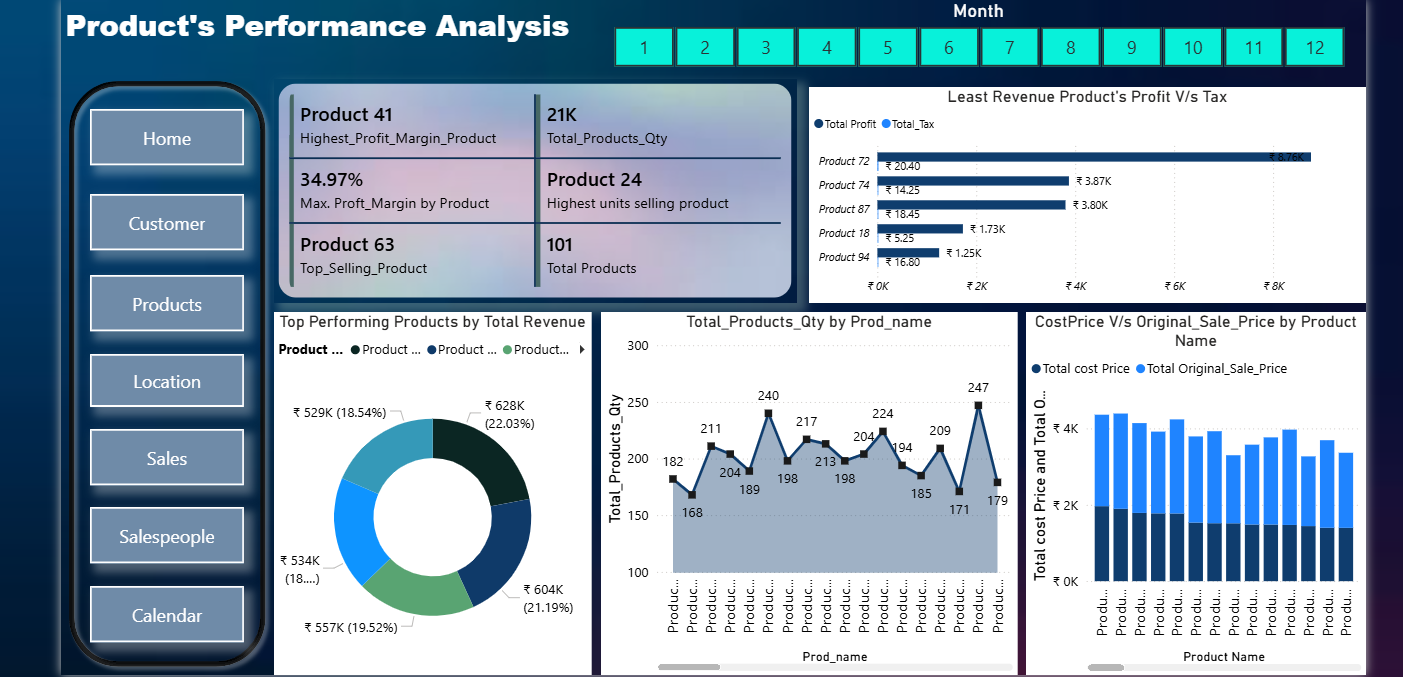

Layout of this report page (visuals, bound fields, positions):
{"tool":"powerbi","page":{"name":" Product","canvas":[1450,750],"ordinal":2},"visuals":[{"type":"cardVisual","title":"KPIs","fields":{"Data":["Calendar.Highest_Profit_Margin_Product","Product_Data.Proft_Margin max per Product Name","Calendar.Top_Selling_Product","Sales.Total_Products_Qty","Sales.Highest units selling product","Product_Data.Total Products"]},"box":[236.2,87.5,581.2,248.8],"z":0},{"type":"donutChart","title":"Top Performing Products by Total Revenue","fields":{"Category":["Product_Data.Product Name"],"Y":["Calendar.Total Revenue"]},"box":[236.2,346.2,352.5,403.8],"z":1000},{"type":"clusteredBarChart","title":"Least Revenue Product''s Profit V/s Tax ","fields":{"Category":["Product_Data.Product Name"],"Y":["Calendar.Total Profit","Calendar.Total_Tax"]},"box":[831.2,96.2,618.8,240],"z":2000},{"type":"shape","box":[32.5,121.2,171.2,62.5],"z":3000},{"type":"shape","box":[32.5,215,171.2,62.5],"z":4000},{"type":"columnChart","title":"CostPrice V/s Original_Sale_Price by Product Name","fields":{"Y":["Product_Data.Total cost Price","Product_Data.Total Original_Sale_Price"],"Category":["Product_Data.Product Name"]},"box":[1072.5,346.2,377.5,403.8],"z":5000},{"type":"textbox","box":[0,0,572.5,57.5],"z":6000},{"type":"shape","box":[0,81.2,236.2,668.8],"z":7000},{"type":"shape","box":[32.5,305,171.2,62.5],"z":8000},{"type":"shape","box":[32.5,393.8,171.2,58.8],"z":9000},{"type":"shape","box":[32.5,476.2,171.2,62.5],"z":10000},{"type":"shape","box":[32.5,563.8,171.2,62.5],"z":11000},{"type":"shape","box":[32.5,651.2,171.2,62.5],"z":12000},{"type":"areaChart","fields":{"Category":["Sales.Prod_name"],"Y":["Sales.Total_Products_Qty"]},"box":[600,346.2,462.5,403.8],"z":13000},{"type":"slicer","title":"Month","fields":{"Values":["Calendar.MonthOfYear"]},"box":[588.8,0,861.2,81.2],"z":14000}]}

Visuals, with their boxes on the page's 1450x750 design canvas (x1, y1, x2, y2). These are canvas units, not pixel positions in the 1403x677 screenshot, which may show the page scaled, cropped or inside an application window:
"KPIs" cardVisual: region(236, 88, 817, 336)
"Top Performing Products by Total Revenue" donutChart: region(236, 346, 589, 750)
"Least Revenue Product''s Profit V/s Tax " clusteredBarChart: region(831, 96, 1450, 336)
shape: region(32, 121, 204, 184)
shape: region(32, 215, 204, 278)
"CostPrice V/s Original_Sale_Price by Product Name" columnChart: region(1072, 346, 1450, 750)
textbox: region(0, 0, 572, 58)
shape: region(0, 81, 236, 750)
shape: region(32, 305, 204, 368)
shape: region(32, 394, 204, 453)
shape: region(32, 476, 204, 539)
shape: region(32, 564, 204, 626)
shape: region(32, 651, 204, 714)
areaChart - Sales.Prod_name x Sales.Total_Products_Qty: region(600, 346, 1062, 750)
"Month" slicer: region(589, 0, 1450, 81)
